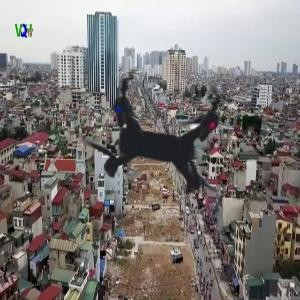drone: (24, 11, 286, 273)
